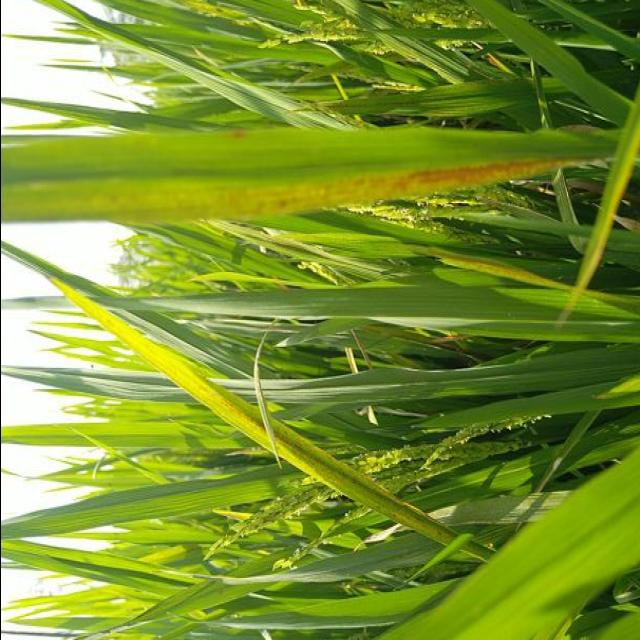Leaf Streak: (181, 372, 457, 546), (106, 156, 604, 221), (426, 250, 569, 290), (204, 128, 250, 140)
